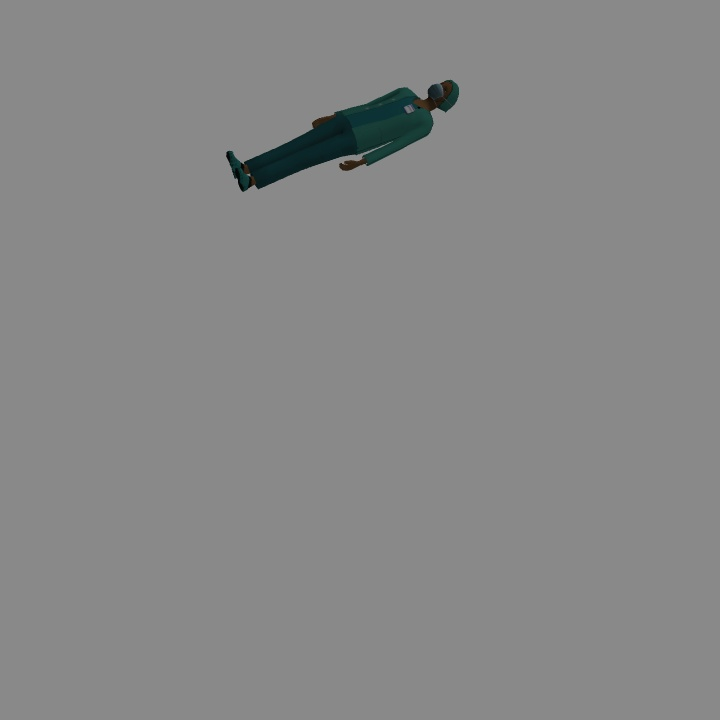victim: (230, 80, 461, 189)
